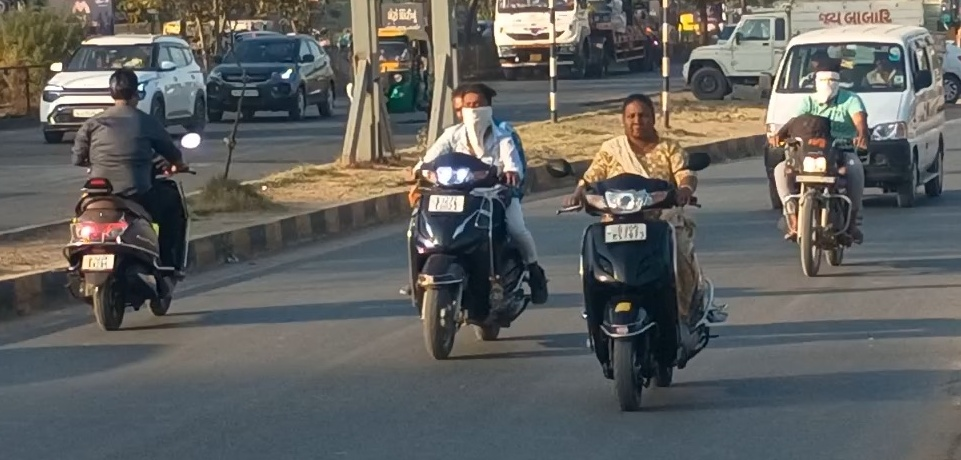BikeWithRider: (542, 87, 734, 416), (388, 76, 555, 363), (53, 62, 207, 336), (760, 43, 877, 282)
NoHelmet: (446, 79, 501, 131), (613, 89, 664, 144), (802, 46, 848, 100), (100, 63, 147, 114)
